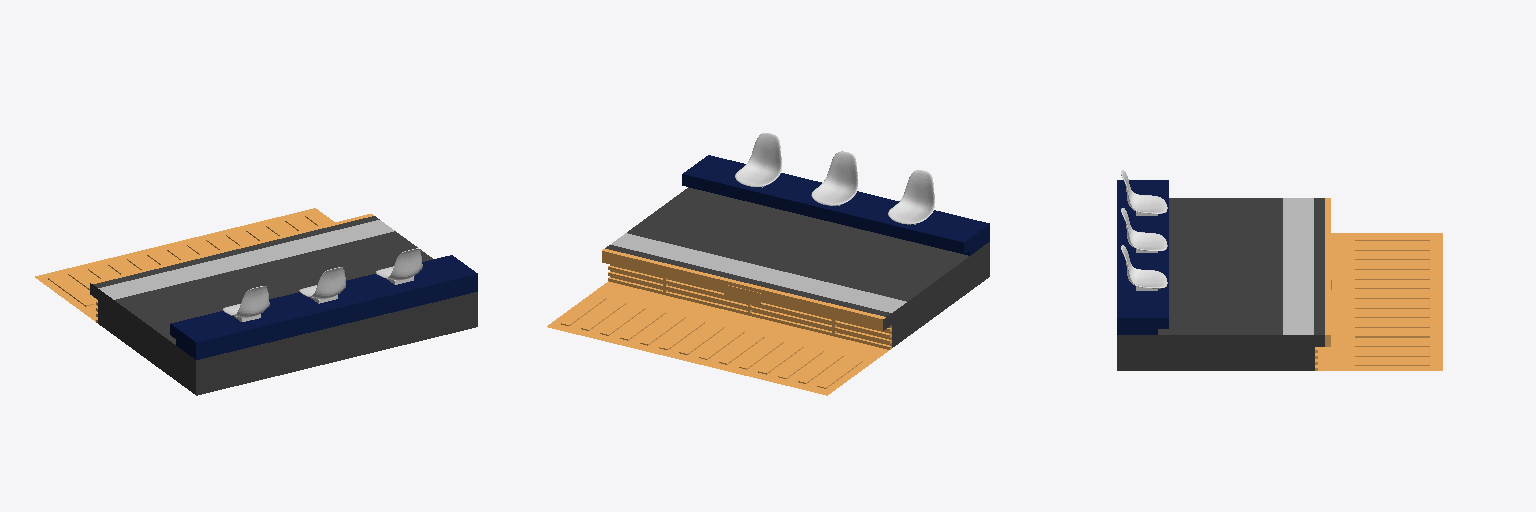
File: orelsan_base-scene.obj
The picture shows the model from 3 angles: view 1: azimuth 30°, elevation 25°; view 2: azimuth 150°, elevation 25°; view 3: azimuth 270°, elevation 25°; orthographic projection.
Visible parts, largest first — view 1: Base_quai, Base_sièges, Base_scène, Bandes, Siège_2, Siège_3, Siège_1; view 2: Base_quai, Base_scène, Base_sièges, Bandes, Sous-quai, Siège_1, Siège_2, Siège_3; view 3: Base_quai, Base_scène, Base_sièges, Bandes, Siège_1, Siège_3, Siège_2.
Boxes of the visible parts, x1,y1,x2,y2 form: Base_quai: [90, 214, 477, 395]; Base_sièges: [170, 255, 477, 359]; Base_scène: [35, 208, 333, 321]; Bandes: [48, 214, 326, 306]; Siège_2: [299, 267, 345, 303]; Siège_3: [223, 286, 269, 321]; Siège_1: [376, 248, 422, 284]; Base_quai: [602, 187, 989, 347]; Base_scène: [547, 281, 888, 395]; Base_sièges: [682, 155, 989, 255]; Bandes: [561, 296, 862, 388]; Sous-quai: [608, 266, 891, 349]; Siège_1: [735, 133, 781, 187]; Siège_2: [811, 151, 857, 205]; Siège_3: [888, 170, 934, 224]; Base_quai: [1117, 198, 1330, 370]; Base_scène: [1318, 233, 1442, 370]; Base_sièges: [1117, 180, 1168, 334]; Bandes: [1355, 236, 1429, 365]; Siège_1: [1121, 245, 1167, 290]; Siège_3: [1121, 170, 1167, 215]; Siège_2: [1121, 208, 1167, 252].
Size of the model in its own units: 500 by 156 by 500.